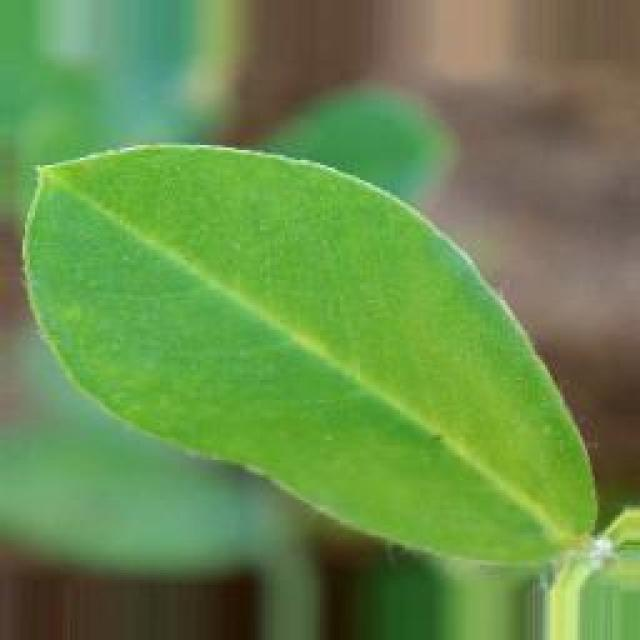Yellow_and_black_sigatoka: (23, 142, 619, 569)
